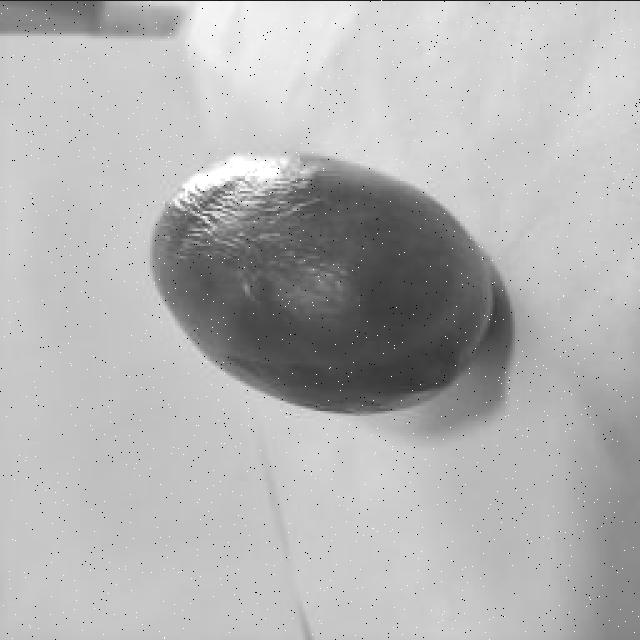overripe: (143, 143, 500, 418)
